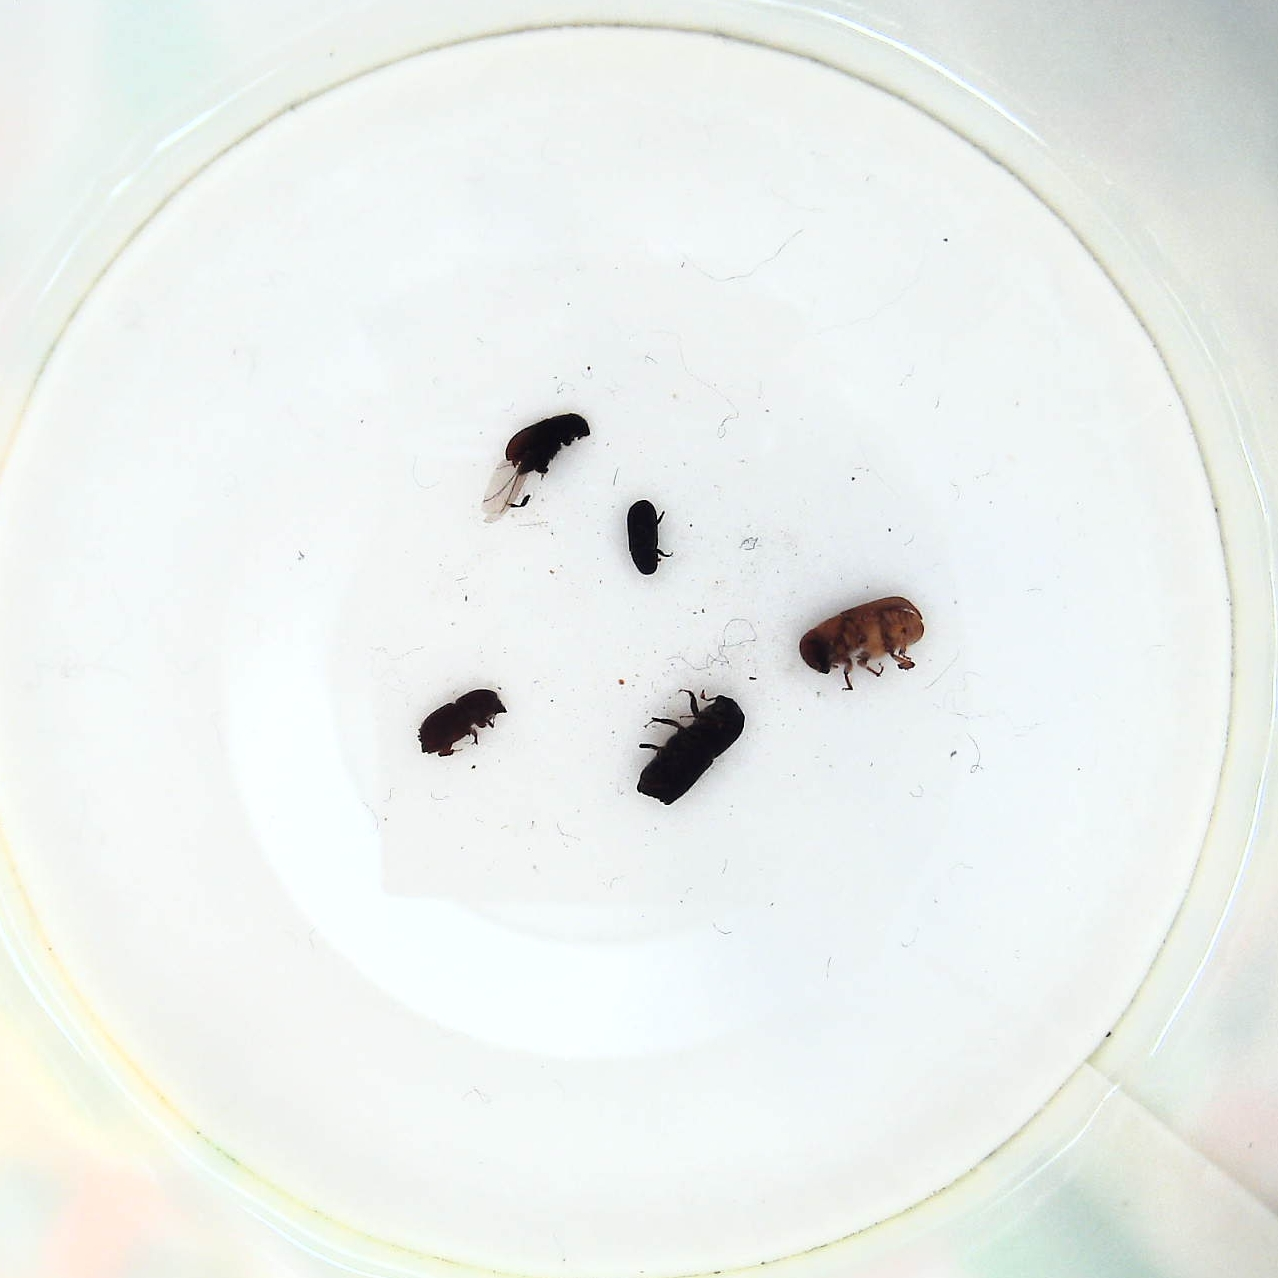Boerner: (631, 686, 753, 808)
Leconte: (796, 591, 930, 690)
armandi: (476, 408, 606, 530)
coleoptera: (620, 496, 676, 579)
linnaeus: (415, 689, 513, 760)
